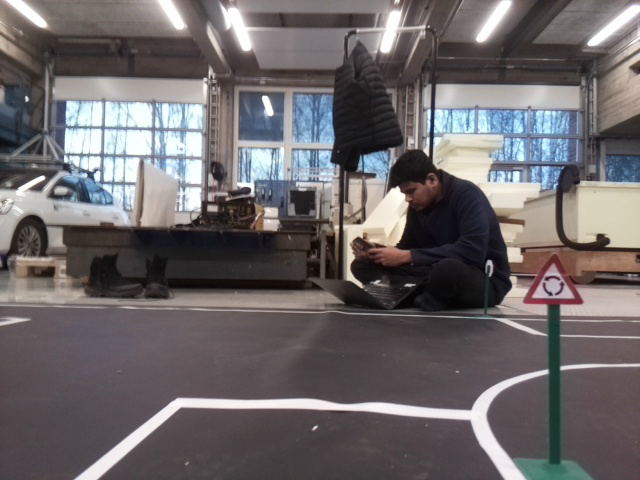Roundabout: (522, 255, 584, 305)
